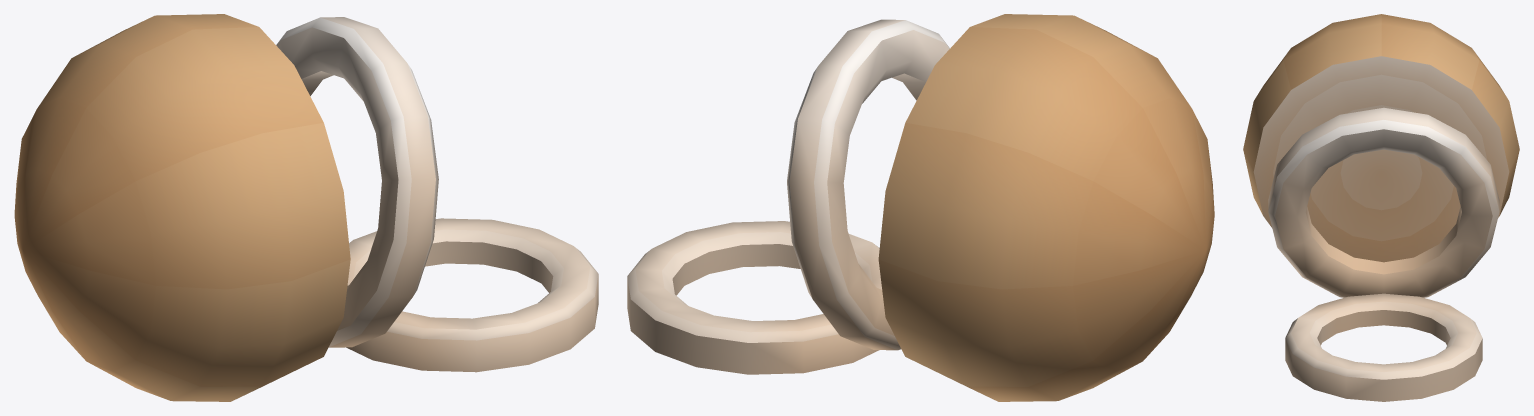
Rendered from Onion cut.glb.
The picture shows the model from 3 angles, left to right: view 1: azimuth 30°, elevation 25°; view 2: azimuth 150°, elevation 25°; view 3: azimuth 270°, elevation 25°; orthographic projection. The views are drawn at different scales.
Parts seen in each view (by area): view 1: food_ingredient_onion_chopped; view 2: food_ingredient_onion_chopped; view 3: food_ingredient_onion_chopped.
Part boxes in pixels (x1,y1,x2,y2): food_ingredient_onion_chopped: (14, 14, 598, 401); food_ingredient_onion_chopped: (627, 14, 1214, 401); food_ingredient_onion_chopped: (1243, 14, 1519, 401).
Size of the model in its own units: 1.23 by 0.75 by 0.75.
Materials: 1 (1 with a texture image).
